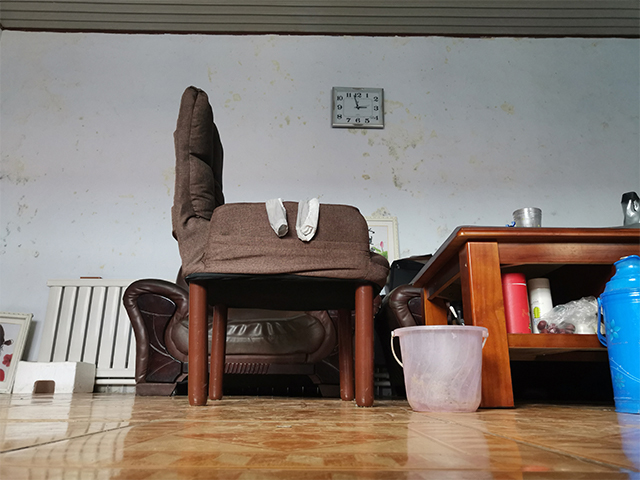sofa: (120, 276, 427, 398)
stool: (171, 79, 392, 408)
table: (407, 223, 639, 410)
trashcan: (388, 322, 493, 412)
